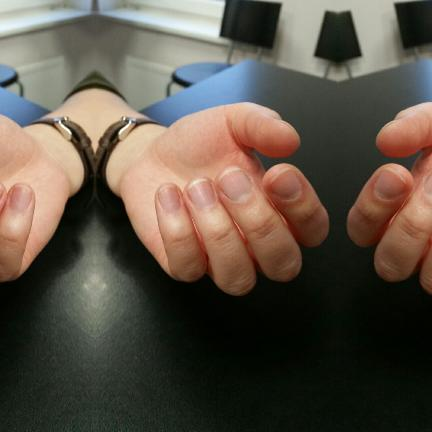Nail: (217, 167, 251, 202), (268, 167, 301, 201), (373, 167, 406, 201), (187, 178, 214, 210), (158, 184, 179, 214), (9, 184, 30, 214), (423, 171, 432, 201), (0, 185, 1, 195)
